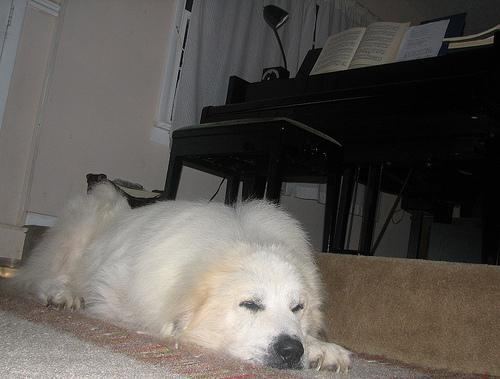Great_Pyrenees: (16, 182, 352, 373)
